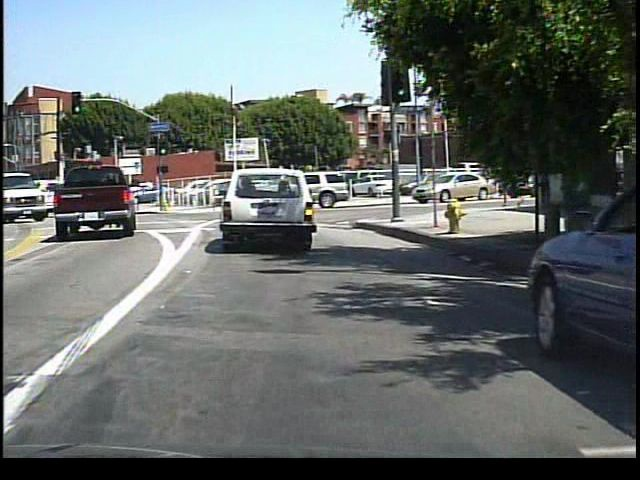person: (391, 165, 408, 203)
